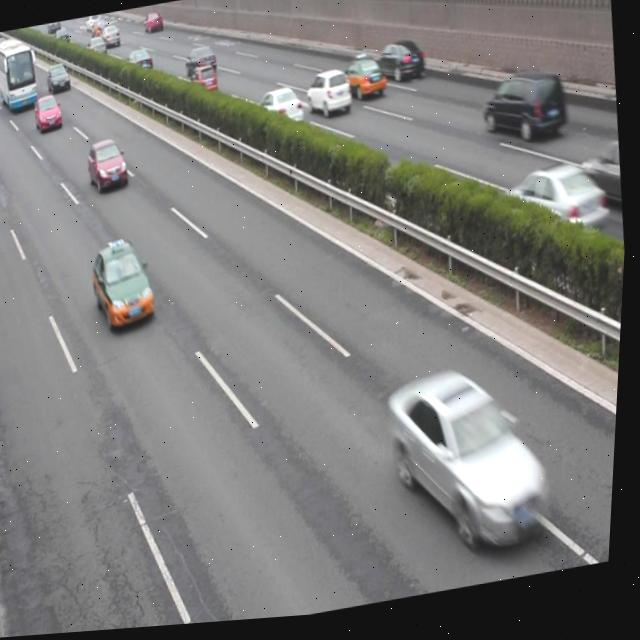car: (382, 364, 561, 577), (501, 166, 613, 258), (91, 235, 162, 337), (575, 152, 627, 220), (85, 137, 133, 196), (304, 71, 355, 125), (341, 59, 390, 108), (374, 44, 426, 90), (255, 88, 306, 134), (34, 93, 64, 131), (184, 50, 217, 81), (190, 65, 220, 99), (123, 49, 153, 78), (47, 63, 73, 95), (99, 23, 121, 50), (142, 14, 164, 36), (84, 38, 106, 59)
truck: (479, 73, 572, 158)
van: (0, 34, 42, 114)
